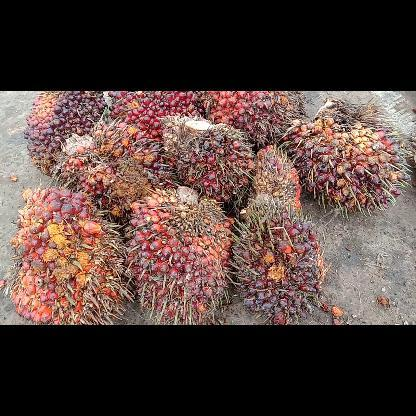TBS masak: (280, 92, 413, 216), (10, 188, 126, 324), (126, 186, 235, 323), (60, 124, 170, 218), (238, 202, 318, 322), (163, 116, 257, 209), (22, 91, 110, 175), (203, 91, 308, 149), (108, 93, 212, 144), (254, 146, 304, 218)
